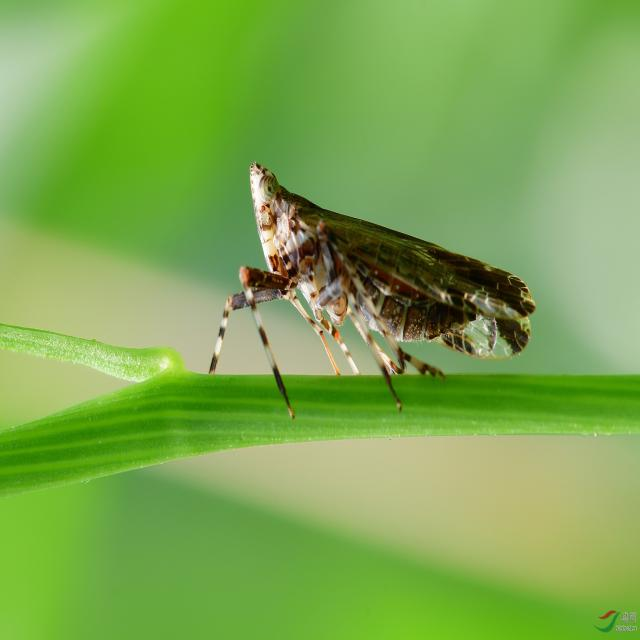Yechan: (217, 159, 534, 397)
